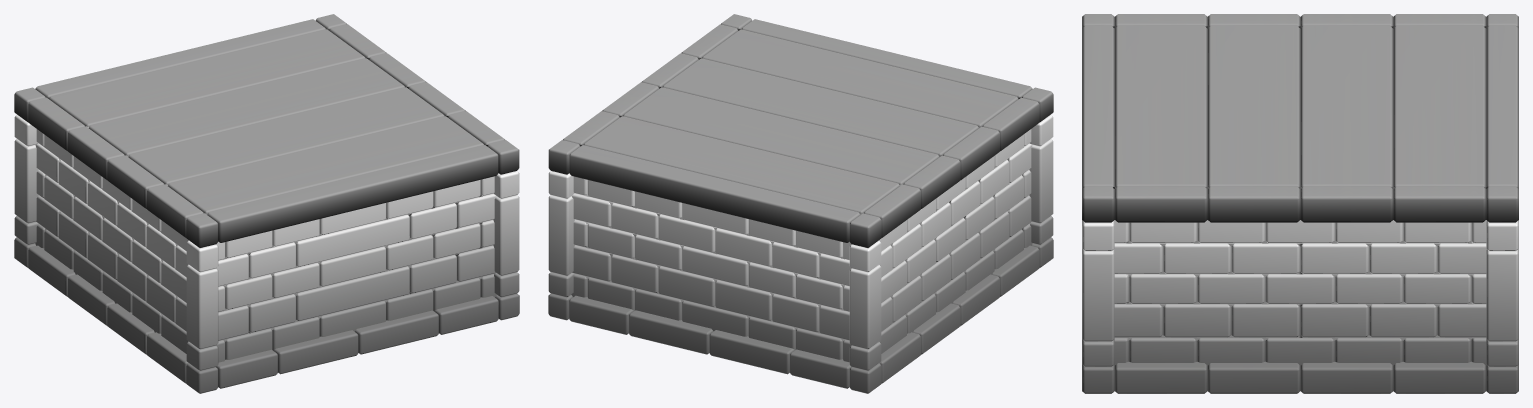
The model's file is SM_Stone_Body_02.fbx.
3 views of the same model, side by side, from view 1: azimuth 30°, elevation 25°; view 2: azimuth 150°, elevation 25°; view 3: azimuth 270°, elevation 25° (orthographic). The views are drawn at different scales.
Visible parts, largest first — view 1: SM_Stone_Body_02; view 2: SM_Stone_Body_02; view 3: SM_Stone_Body_02.
Boxes of the visible parts, x1,y1,x2,y2 form: SM_Stone_Body_02: (14, 14, 519, 393); SM_Stone_Body_02: (548, 14, 1053, 393); SM_Stone_Body_02: (1082, 14, 1518, 393).
Size of the model in its own units: 2 by 1 by 2.
